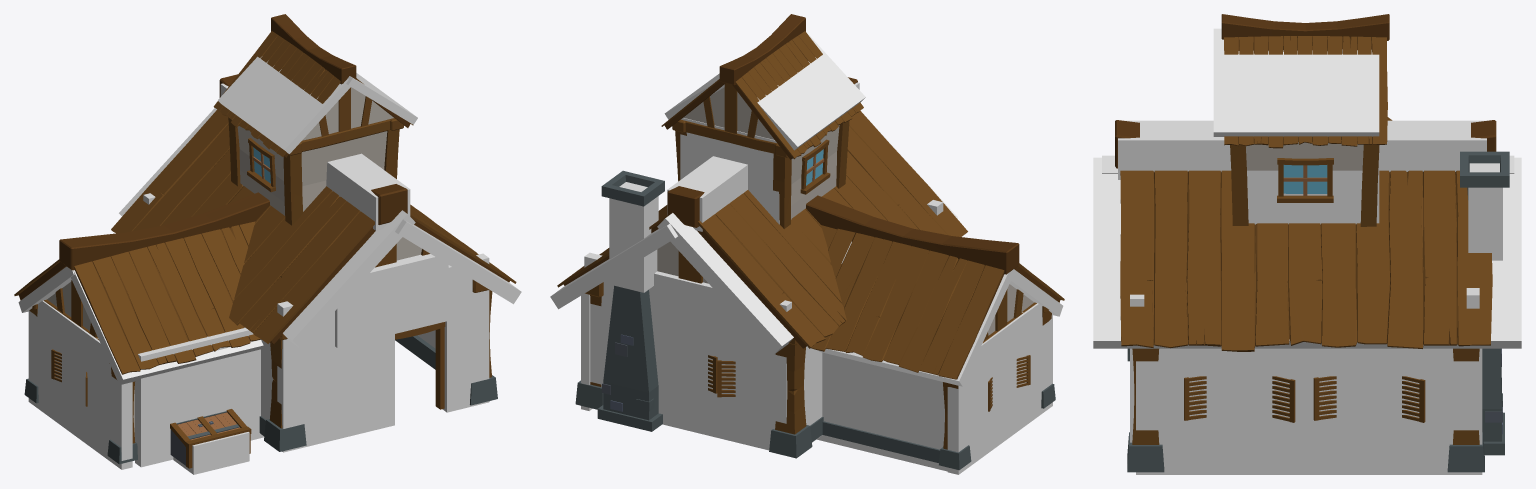
File: house_6.glb
3 views of the same model, side by side, from view 1: azimuth 30°, elevation 25°; view 2: azimuth 150°, elevation 25°; view 3: azimuth 270°, elevation 25° (orthographic). The views are drawn at different scales.
Parts seen in each view (by area): view 1: House_06, Cube.003, Cube.009, Cube.013, Cube.002, Cube.017, Cube.007, Cube.006, Cube.018, Cube.005, Cube.010, Cube.014 (+3 smaller); view 2: House_06, Cube.004, Cube.009, Cube.012, Cube.017, Cube.006, Cube.015, Cube.019, Cube.018, Cube.005, Cube.011, Cube.008 (+2 smaller); view 3: House_06, Cube.001, Cube.016, Cube.005, Cube.018, Cube.015, Cube.019, Cube.007.
Boxes of the visible parts, x1,y1,x2,y2 form: House_06: (14,14,516,468); Cube.003: (277,301,394,452); Cube.009: (28,300,132,469); Cube.013: (135,327,263,467); Cube.002: (335,254,448,347); Cube.017: (218,56,350,153); Cube.007: (442,253,489,412); Cube.006: (119,108,415,348); Cube.018: (220,83,410,230); Cube.005: (395,219,521,304); Cube.010: (71,270,263,385); Cube.014: (173,432,249,474); House_06: (557,14,1064,470); Cube.004: (584,252,791,450); Cube.009: (947,303,1052,474); Cube.012: (817,352,947,471); Cube.017: (757,32,865,150); Cube.006: (657,112,957,354); Cube.015: (680,118,779,224); Cube.019: (609,182,658,292); Cube.018: (667,82,859,231); Cube.005: (550,224,677,309); Cube.011: (819,241,1014,386); Cube.008: (804,346,822,442); House_06: (1115,14,1509,472); Cube.001: (1136,348,1482,474); Cube.016: (1213,28,1379,136); Cube.005: (1093,157,1521,348); Cube.018: (1118,120,1486,179); Cube.015: (1247,153,1379,224); Cube.019: (1468,163,1502,260); Cube.007: (1130,294,1144,442).
Bounding box in the file's own units: 10.33 × 8.82 × 8.57.
Materials: 1 (1 with a texture image).
